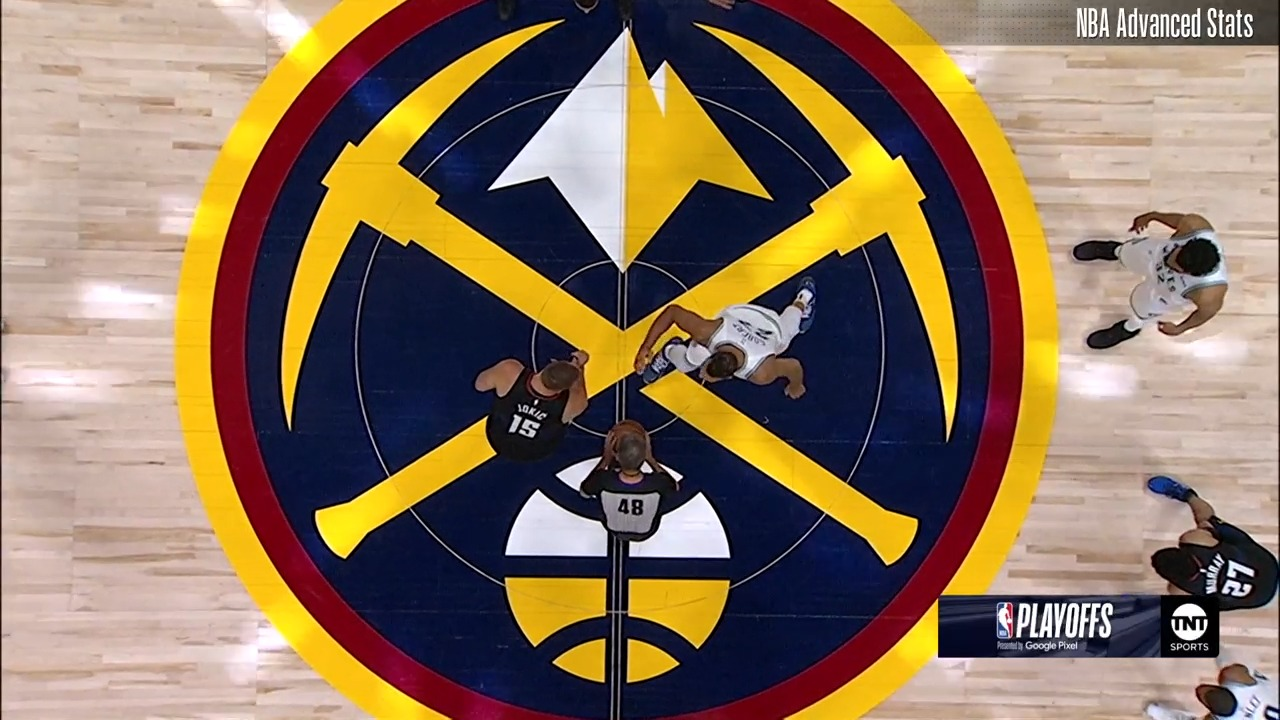basketball: (608, 418, 648, 458)
